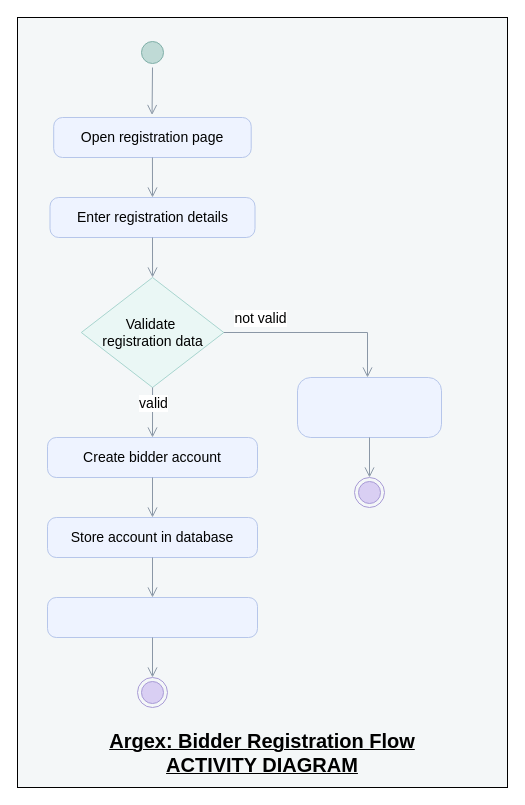
Image size: 525x805. Some labels were removed from this diagram. Here are the shapes that lost their labels. From the top down, the box of each, then its label:
(296, 376, 442, 438): Show error message
(46, 596, 258, 638): Registration successful
